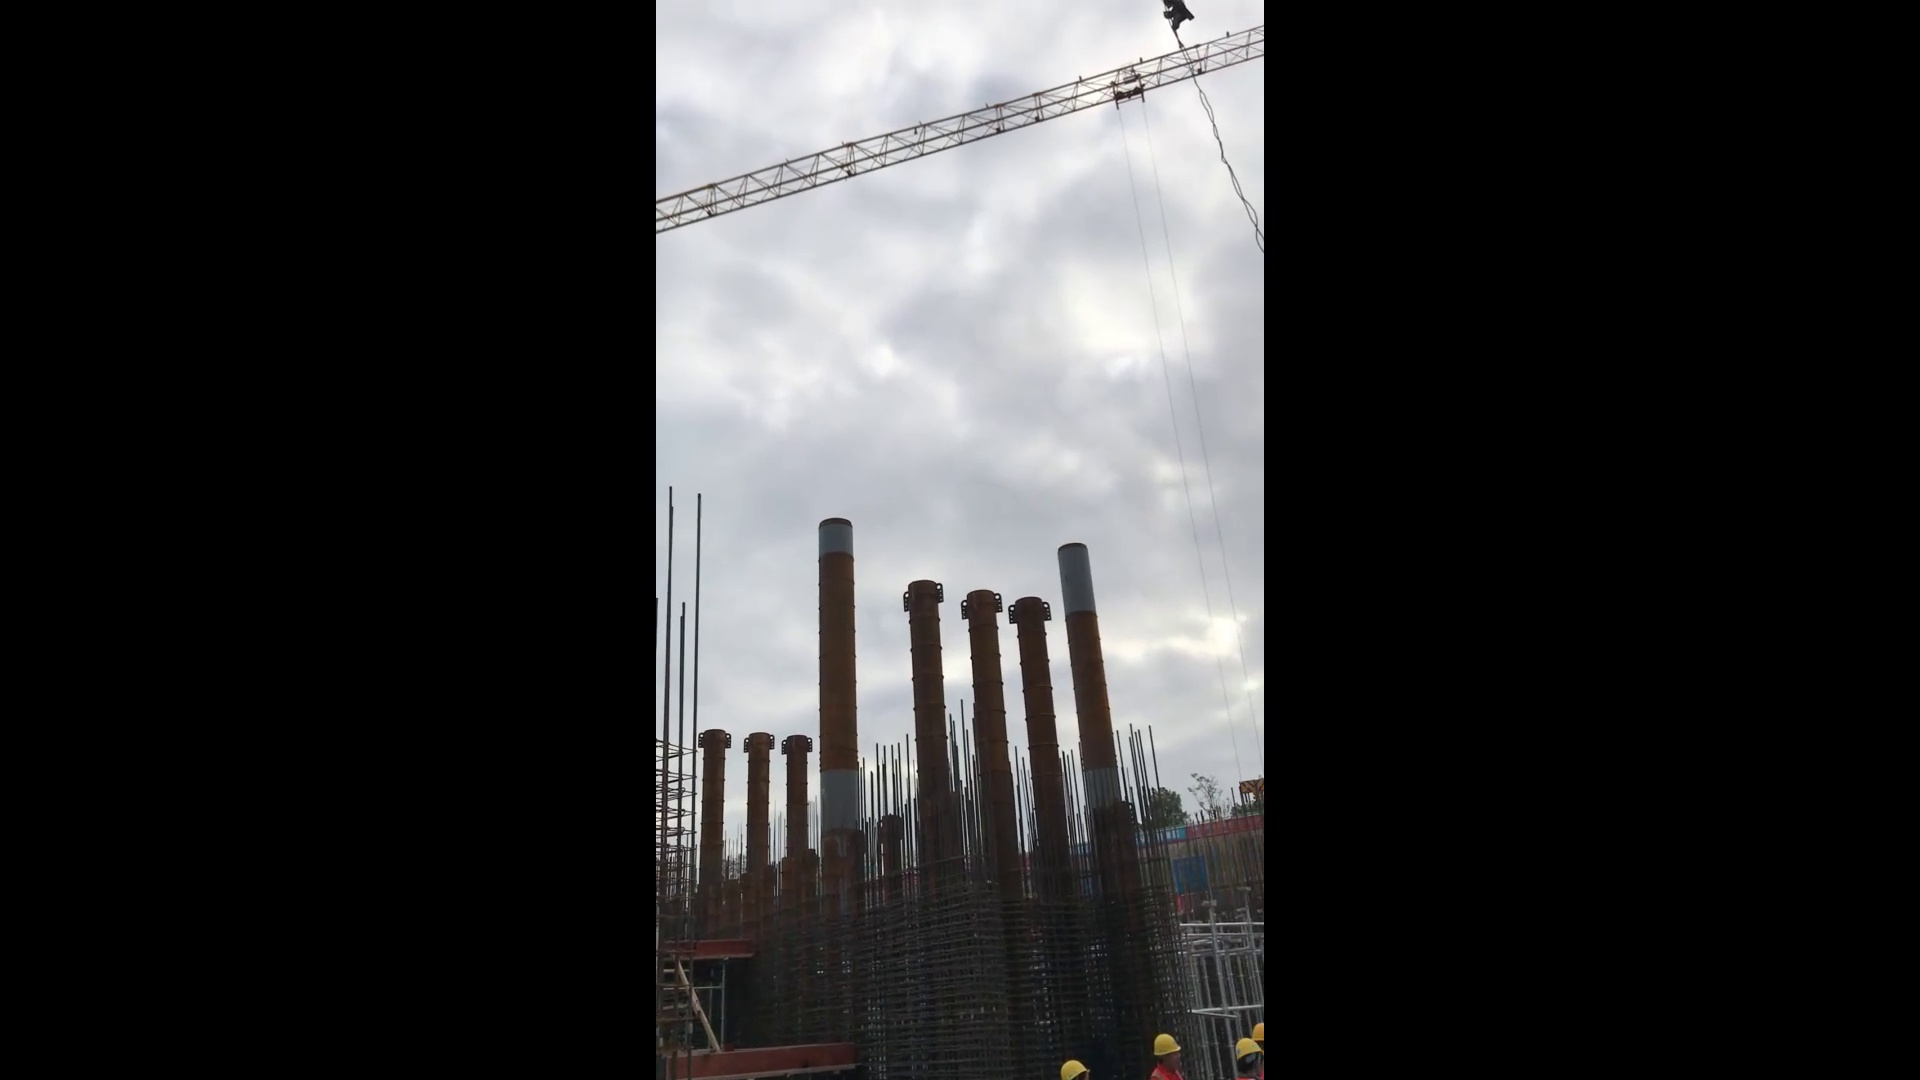helmet: (1152, 1033, 1184, 1060), (1236, 1039, 1263, 1062), (1061, 1059, 1089, 1080), (1252, 1023, 1269, 1043)
person: (1148, 1030, 1189, 1080), (1233, 1036, 1265, 1080), (1058, 1057, 1095, 1080), (1248, 1021, 1269, 1053)
vest: (1151, 1065, 1183, 1080)
